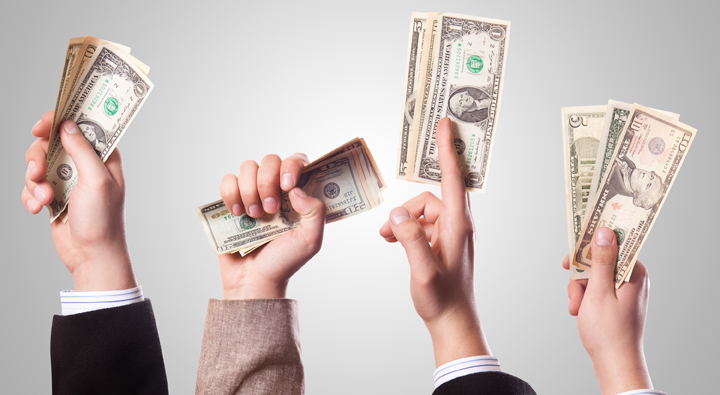billete: (562, 100, 697, 288), (195, 137, 387, 256), (396, 13, 511, 193), (43, 36, 152, 223)
